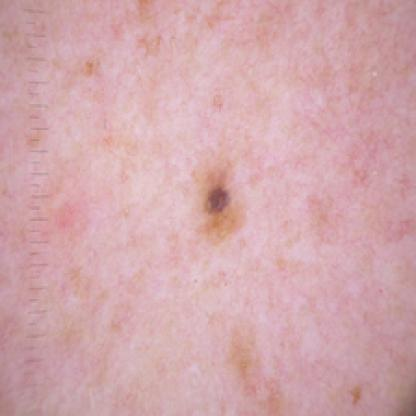benign: (184, 167, 258, 232)
